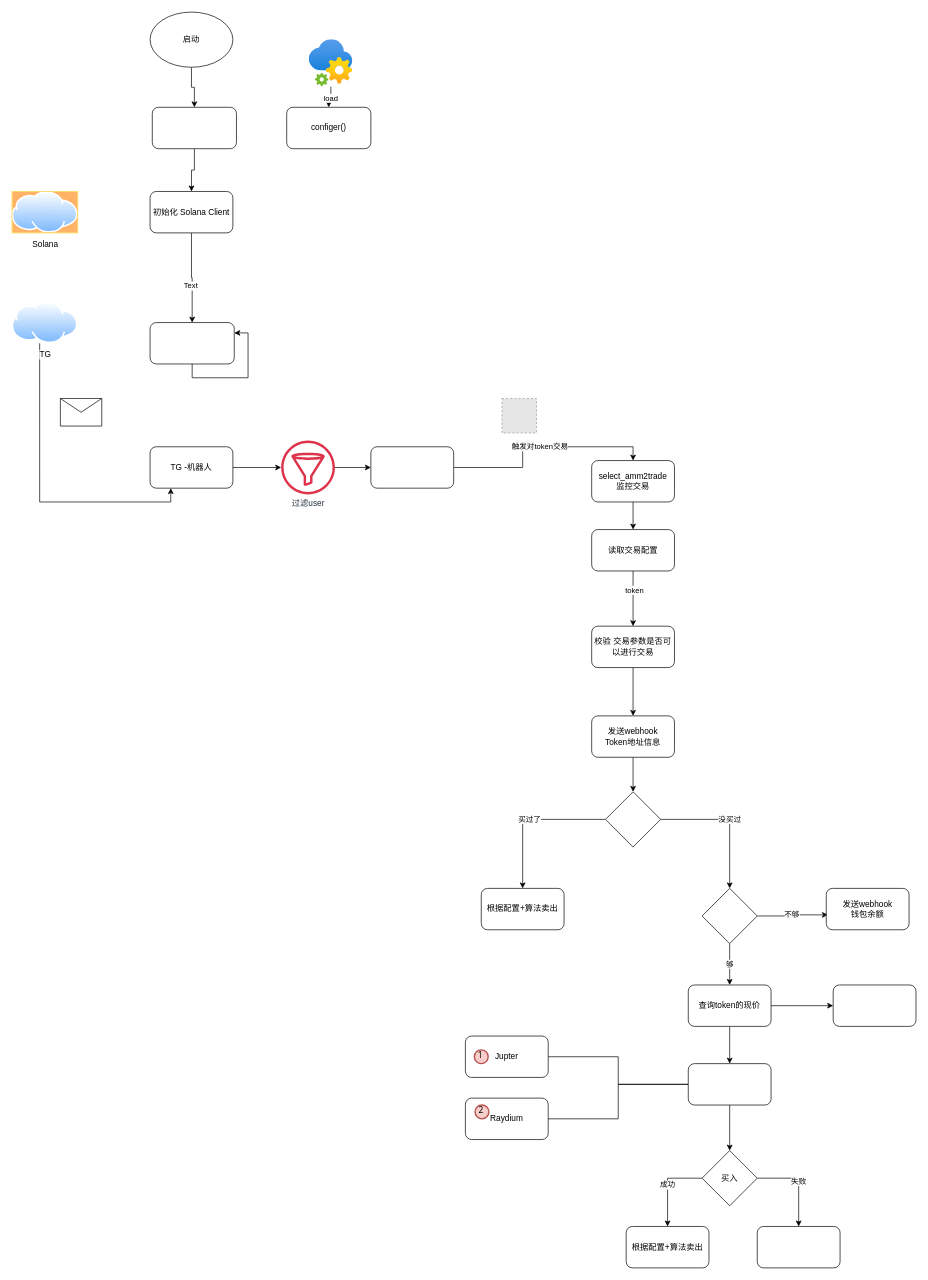
Some shapes in this 928 by 1280 pixel diagram are drawn without their labels. Grey dashed boxes stand in for pictures. The centre of each missing label's shape, as x and y in pixels:
config.ini: the point at 330,62
token 之前已经买过？: the point at 633,819
交易操作类: the point at 729,1084
发送webhook token 现价: the point at 874,1005
发送发送webhook 买入失败通知: the point at 798,1247
启动tg 机器人监听: the point at 191,343
消息 User msgcontent: the point at 81,412
自己账户余额 够不够交易？: the point at 729,916
解析消息内容: the point at 412,467
读配置: the point at 194,128
